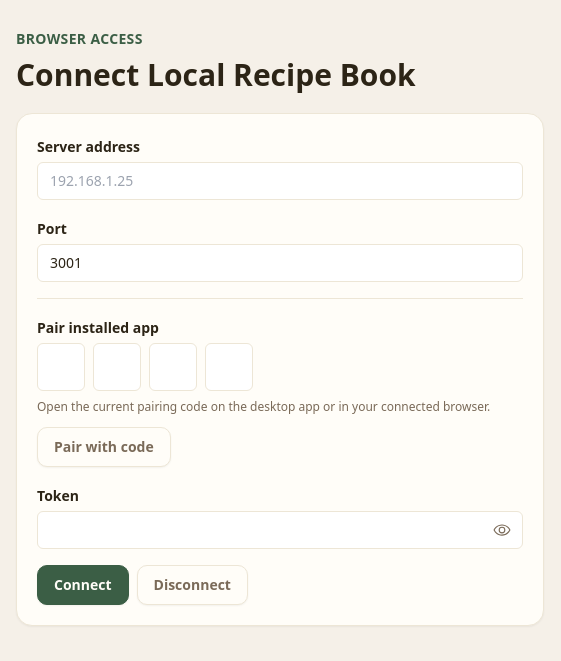
Test case: ConnectPage QA baseline › blocks connect with a visible message when the host is empty
The width and height of the screenshot is (561, 661).
Step 1. Type "t" into the password field labelled "Token" → [280, 530], box [37,510,523,548]
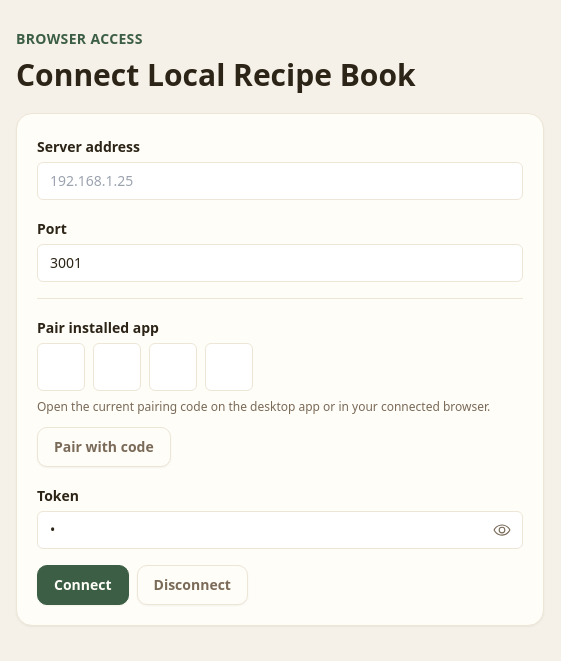
Step 2. Click the button "Connect" → [83, 584], box [37,564,128,604]
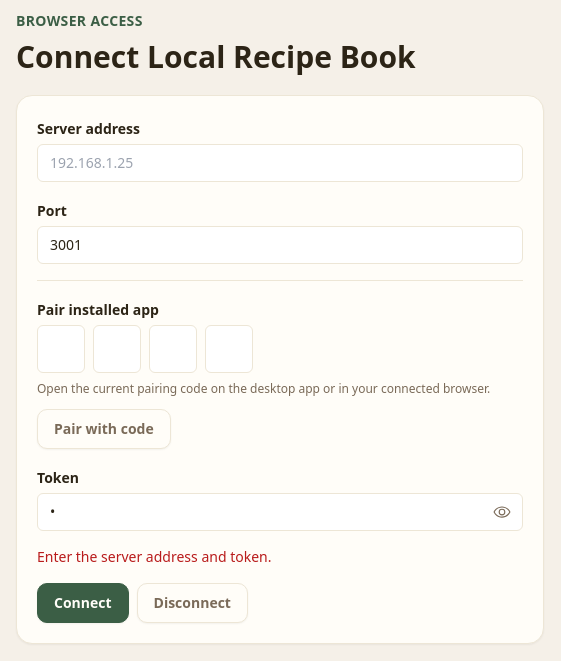
Check: the text "Enter the server address and token." is shown, box [37,546,272,566]
